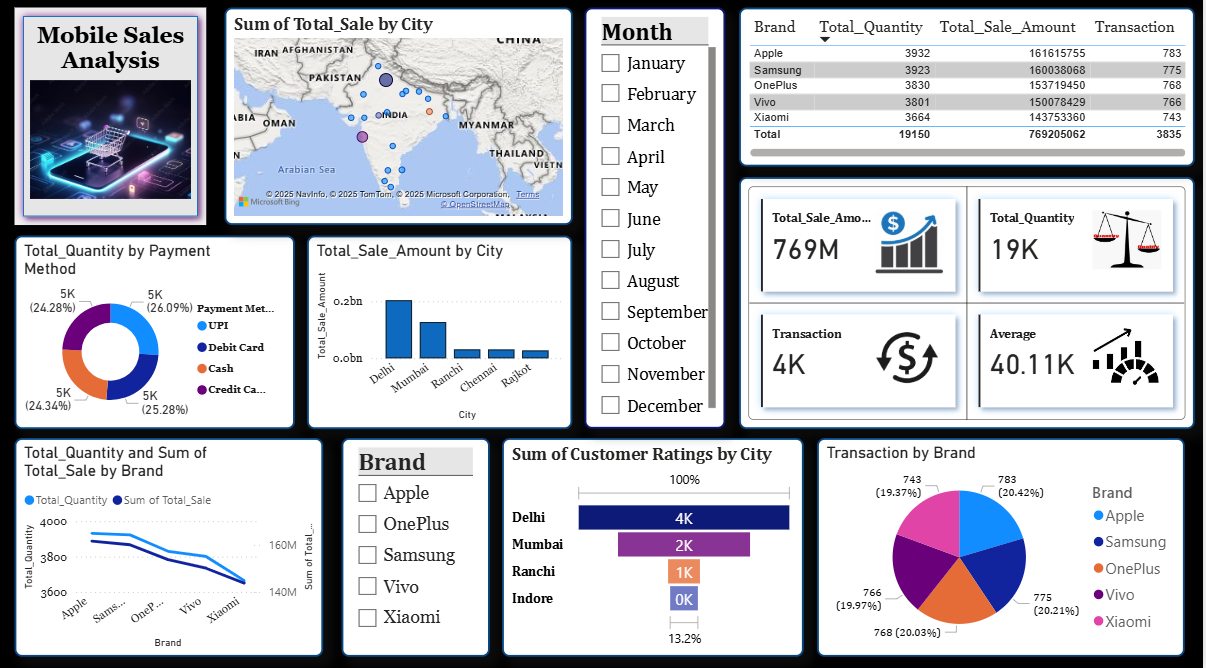

The dashboard page shown, as its layout file describes it:
{"tool":"powerbi","page":{"name":"Page 2","canvas":[1280,720],"ordinal":0},"visuals":[{"type":"cardVisual","fields":{"Data":["Sales_Data.total_sales_amt","Sales_Data.total_quantity","Sales_Data.transaction","Sales_Data.Average"]},"box":[788.9,197.2,483.5,267.2],"z":0},{"type":"shape","box":[20.7,17.5,203.6,230.6],"z":1000},{"type":"image","box":[31.8,73.2,181.3,168.6],"z":2000},{"type":"donutChart","fields":{"Y":["Sales_Data.Total_Quantity"],"Category":["Sales_Data.Payment Method"]},"box":[20.7,259.3,297.4,205.2],"z":3000},{"type":"clusteredColumnChart","fields":{"Category":["Sales_Data.City"],"Y":["Sales_Data.Total_Sale_Amount"]},"box":[330.8,259.3,281.5,205.2],"z":4000},{"type":"lineChart","fields":{"Y":["Sales_Data.Total_Quantity"],"Category":["Sales_Data.Brand"],"Y2":["Sum(Sales_Data.total_sale)"]},"box":[20.7,474,327.7,232.2],"z":5000},{"type":"slicer","fields":{"Values":["Sales_Data.Brand"]},"box":[367.4,474,157.5,232.2],"z":6000},{"type":"tableEx","fields":{"Values":["Sales_Data.Brand","Sales_Data.Total_Quantity","Sales_Data.Total_Sale_Amount","Sales_Data.Transaction"]},"box":[788.9,17.5,483.5,168.6],"z":7000},{"type":"funnel","fields":{"Y":["Sum(Sales_Data.Customer Ratings)"],"Category":["Sales_Data.City"]},"box":[537.6,474,319.7,232.2],"z":8000},{"type":"pieChart","fields":{"Y":["Sales_Data.Transaction"],"Category":["Sales_Data.Brand"]},"box":[871.7,474,389.7,232.2],"z":9000},{"type":"map","fields":{"Category":["Sales_Data.City"],"Size":["Sum(Sales_Data.Total_Sale)"]},"box":[243.4,17.5,369,230.6],"z":10000},{"type":"slicer","fields":{"Values":["Sales_Data.Date.Variation.Date Hierarchy.Month"]},"box":[625.1,17.5,149.5,447],"z":11000}]}

Visuals, with their boxes in screenshot pixels (x1, y1, x2, y2), scaled from the page's 1280x720 canvas onto the 1206x668 screenshot:
cardVisual - Sales_Data.total_sales_amt x Sales_Data.total_quantity: [x1=743, y1=183, x2=1199, y2=431]
shape: [x1=20, y1=16, x2=211, y2=230]
image: [x1=30, y1=68, x2=201, y2=224]
donutChart - Sales_Data.Total_Quantity x Sales_Data.Payment Method: [x1=20, y1=241, x2=300, y2=431]
clusteredColumnChart - Sales_Data.City x Sales_Data.Total_Sale_Amount: [x1=312, y1=241, x2=577, y2=431]
lineChart - Sales_Data.Total_Quantity x Sales_Data.Brand: [x1=20, y1=440, x2=328, y2=655]
slicer - Sales_Data.Brand: [x1=346, y1=440, x2=495, y2=655]
tableEx - Sales_Data.Brand x Sales_Data.Total_Quantity: [x1=743, y1=16, x2=1199, y2=173]
funnel - Sum(Sales_Data.Customer Ratings) x Sales_Data.City: [x1=507, y1=440, x2=808, y2=655]
pieChart - Sales_Data.Transaction x Sales_Data.Brand: [x1=821, y1=440, x2=1188, y2=655]
map - Sales_Data.City x Sum(Sales_Data.Total_Sale): [x1=229, y1=16, x2=577, y2=230]
slicer - Sales_Data.Date.Variation.Date Hierarchy.Month: [x1=589, y1=16, x2=730, y2=431]
